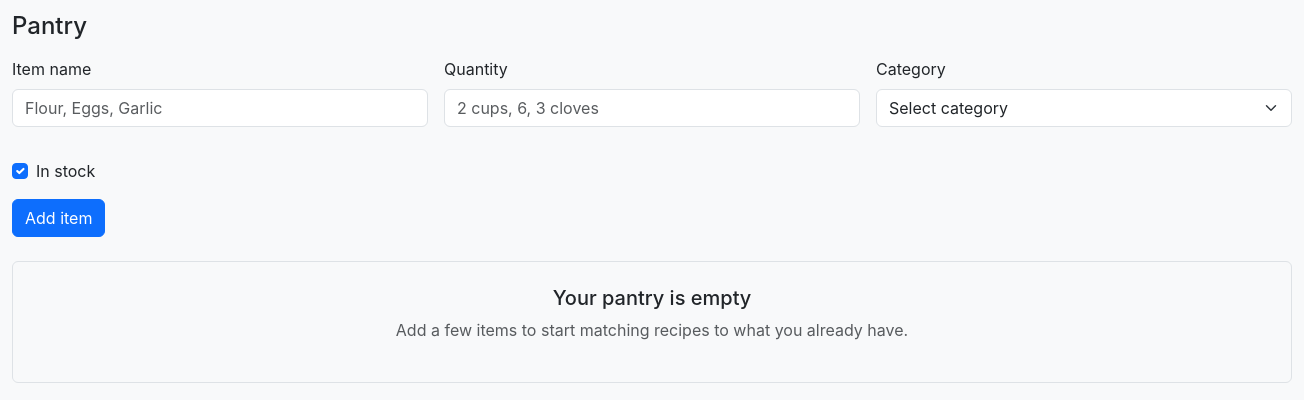
Test case: PantryPage › submits a valid pantry item
Expected: the heading "Your pantry is empty" is shown, [553, 286, 751, 310]
// Use placeholders for the inputs
Type "Eggs" into the field with placeholder "Flour, Eggs, Garlic" at x=220, y=108, box [12, 89, 428, 127]
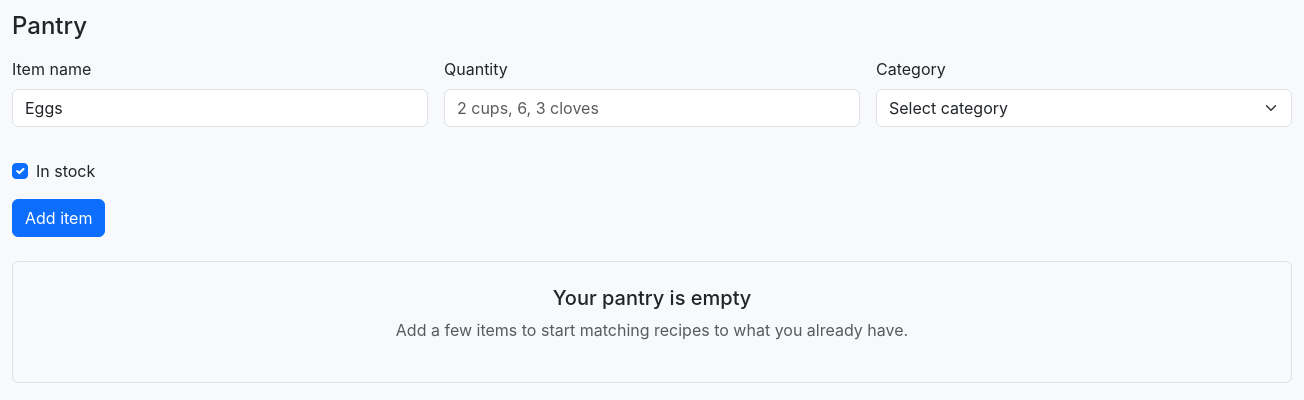
Type "6" into the field with placeholder "2 cups, 6, 3 cloves" at x=652, y=108, box [444, 89, 860, 127]
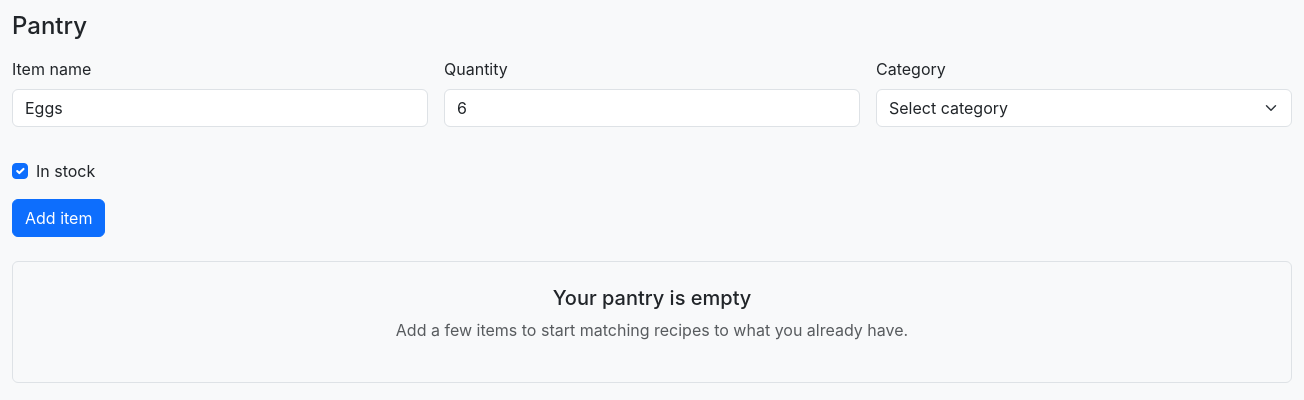
// Select has no accessible name, so just grab the only combobox
Select "Dairy" in the dropdown at x=1084, y=108, box [876, 89, 1292, 127]
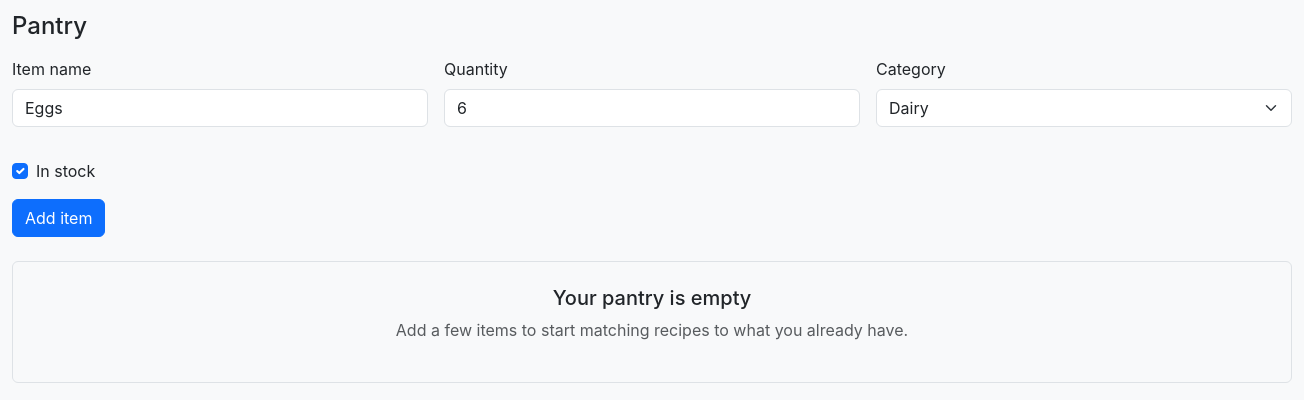
Click the button "Add item" at x=59, y=218, box [12, 199, 105, 237]
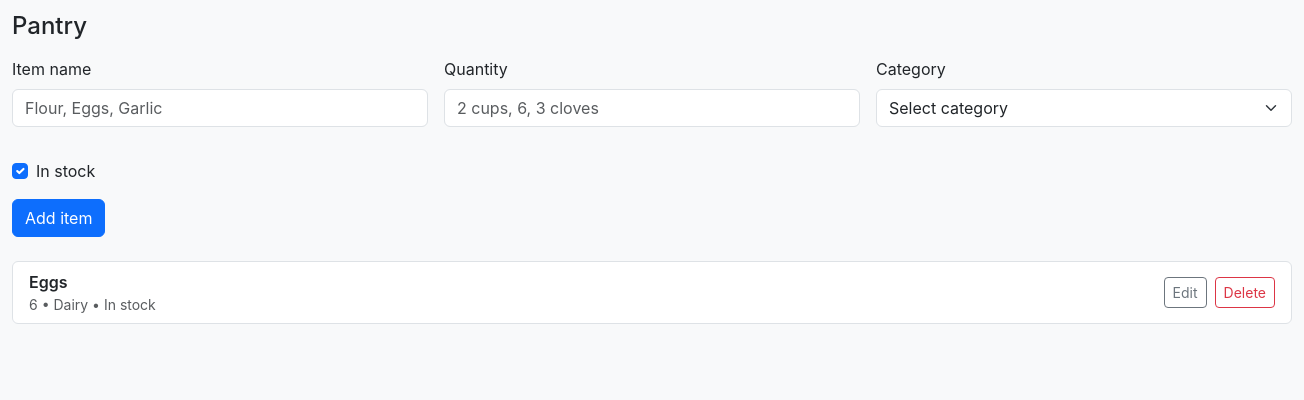
Now the text "Eggs" is shown, box [29, 272, 68, 292]
